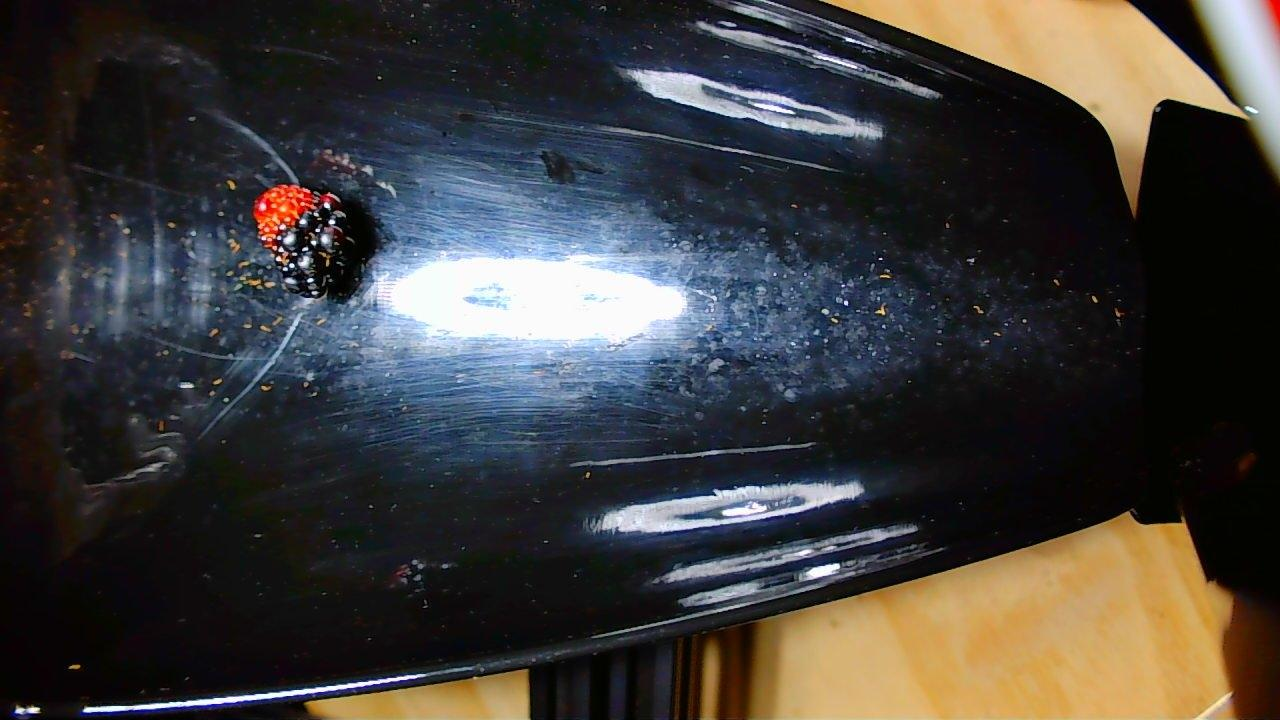berry: (249, 183, 357, 297)
